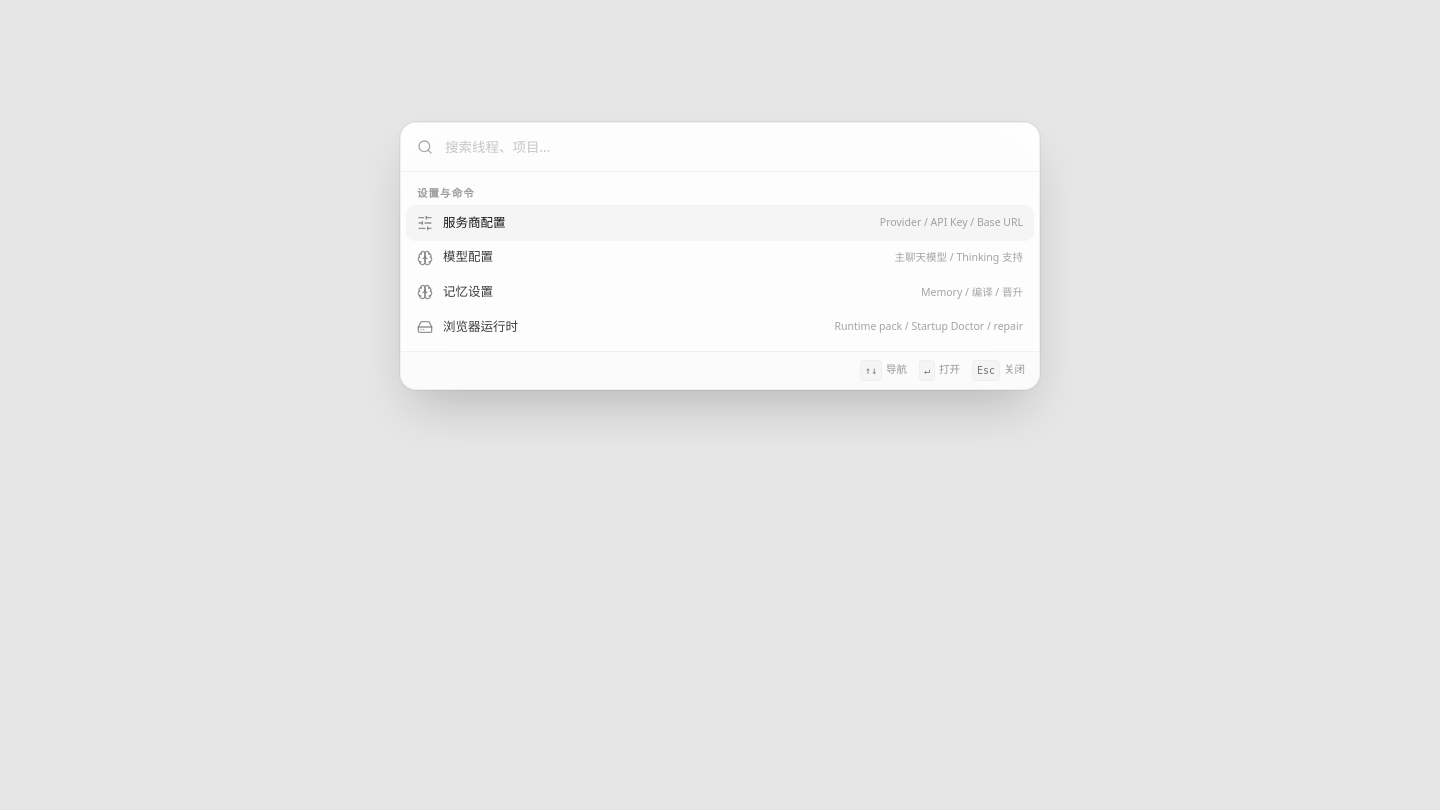
it: SearchPalette — cross-workspace grouped render › renders per-workspace section headers with workspace name + hit count
Type "hello" into the dropdown with placeholder "搜索线程、项目..." at [734, 147], box [445,136,1023,157]
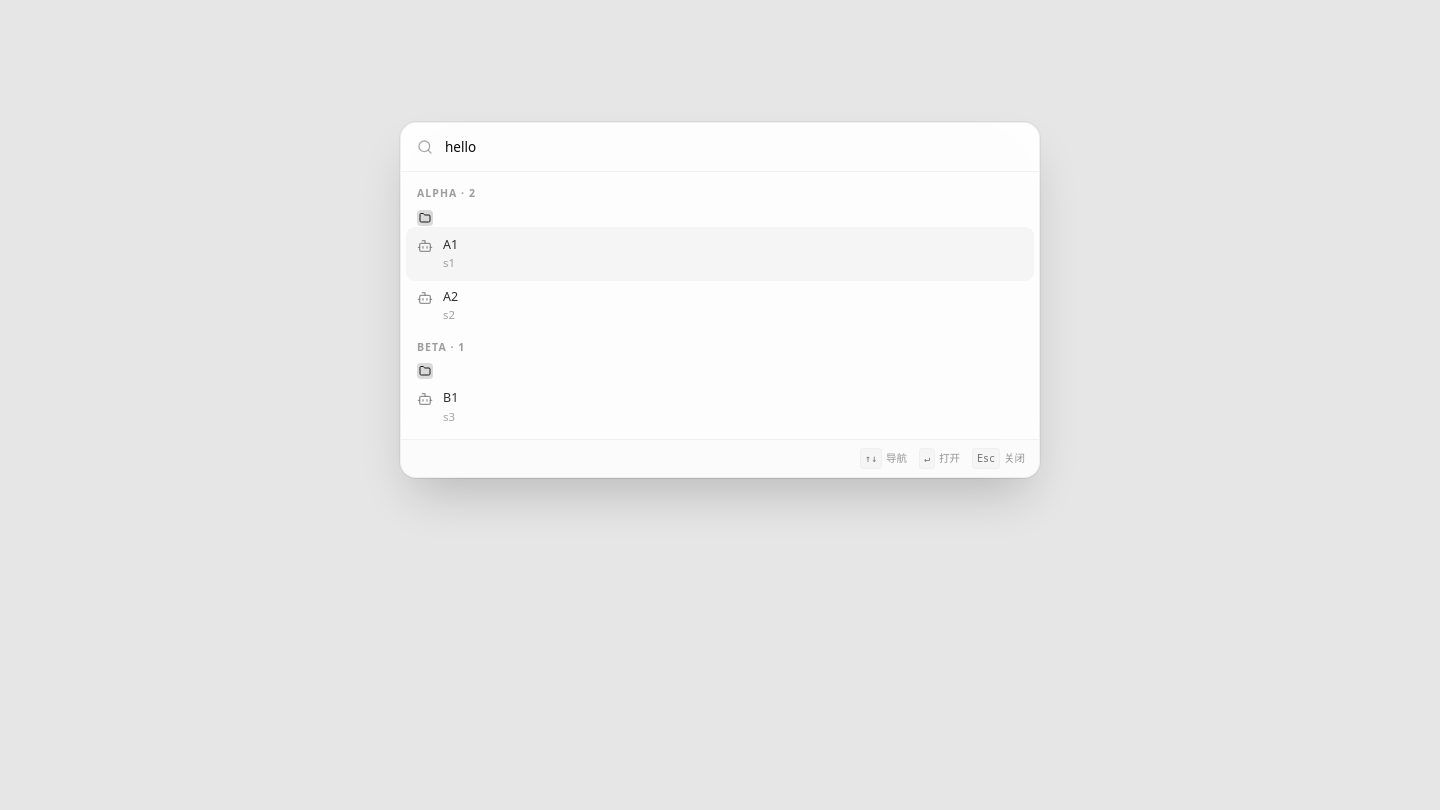
Expected: the text "Alpha · 2" is shown, [417,186,476,200]
Expected: the text "Beta · 1" is shown, [417,340,465,354]
